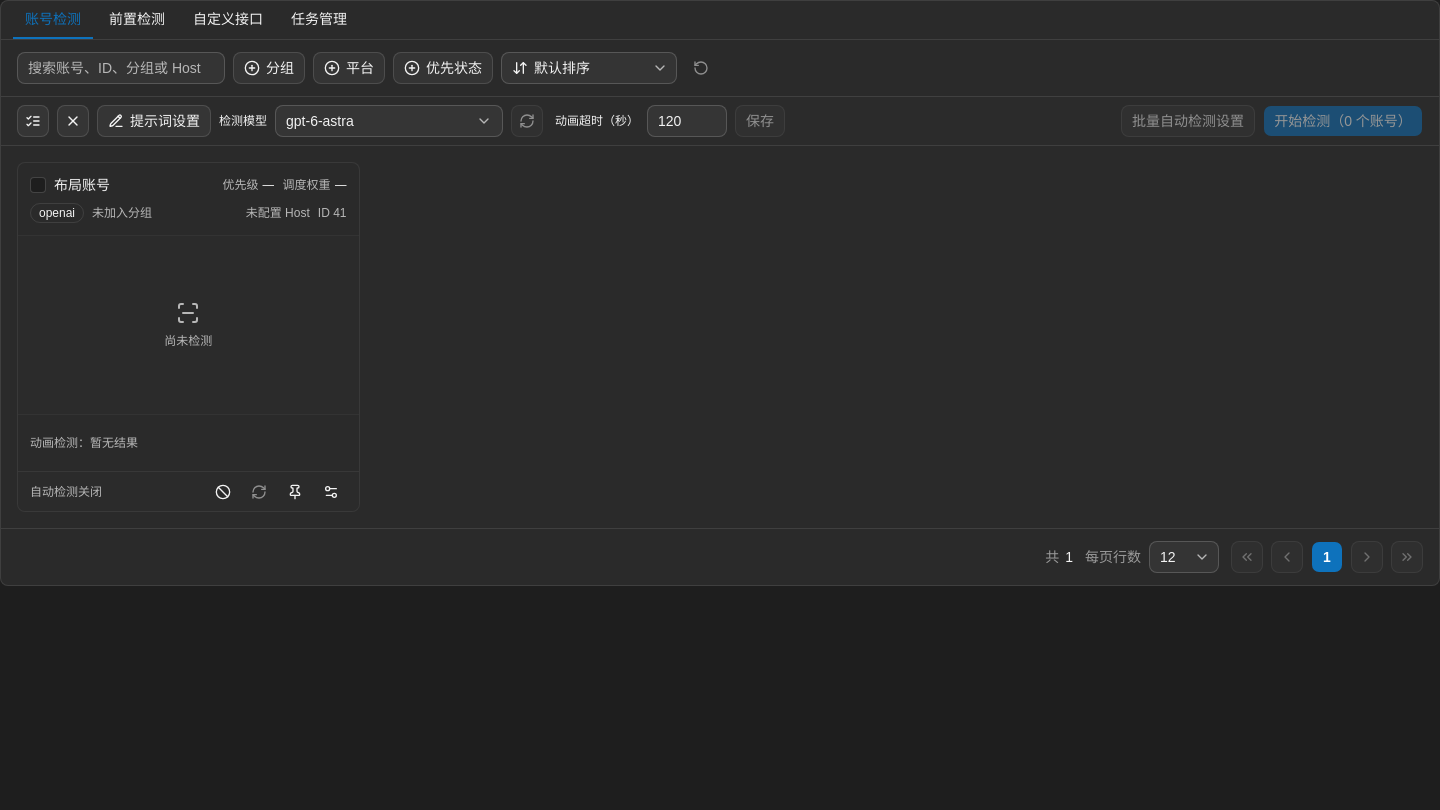
Test: 提示词设置与账号选择共用下方操作栏，点击后才显示编辑弹窗
Expected: the field labelled "动画提示词" is not shown
Click the button with aria-label "编辑动画提示词" at (154, 121), box [97,105,211,137]
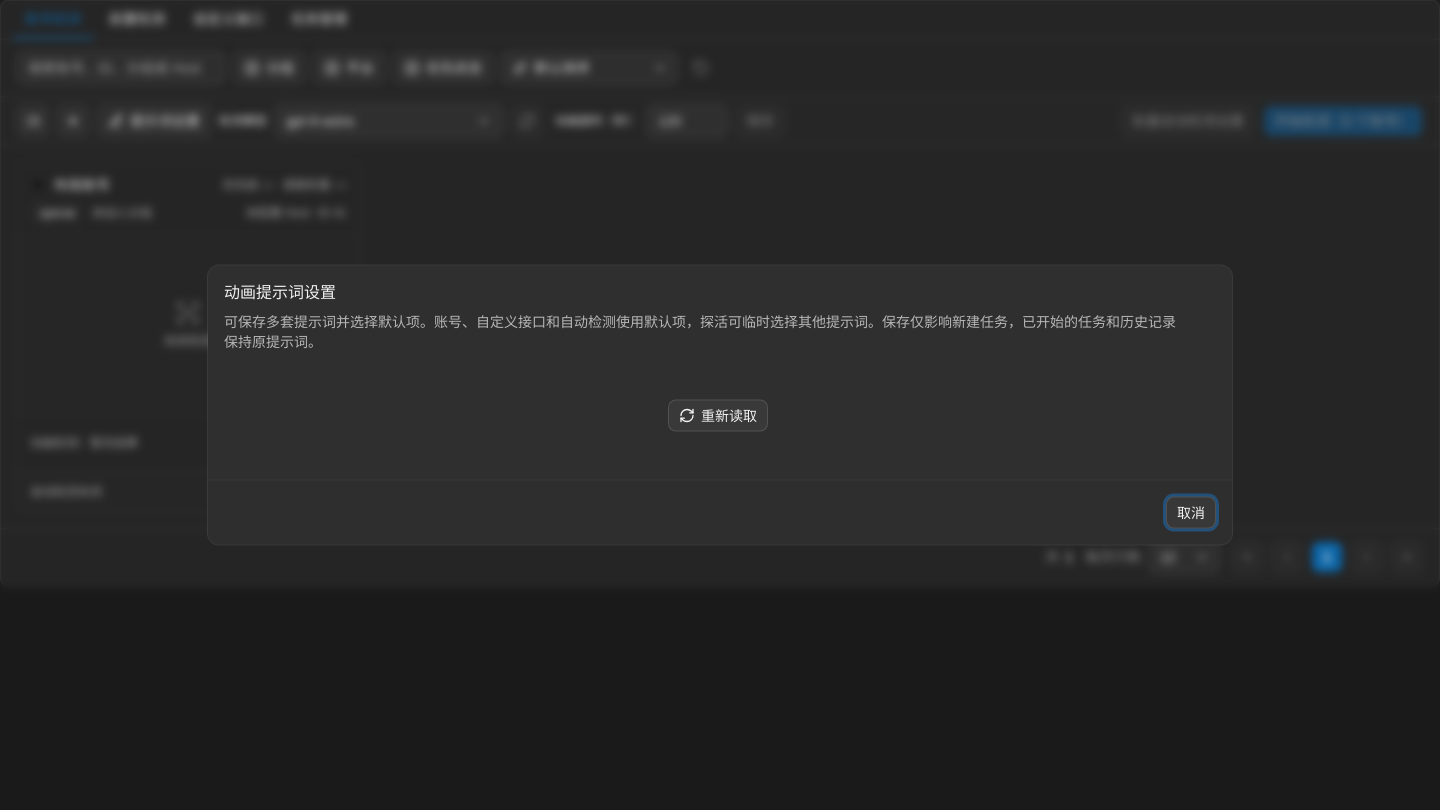
Expected: the dialog "动画提示词设置" is shown, [208,266,1232,544]
